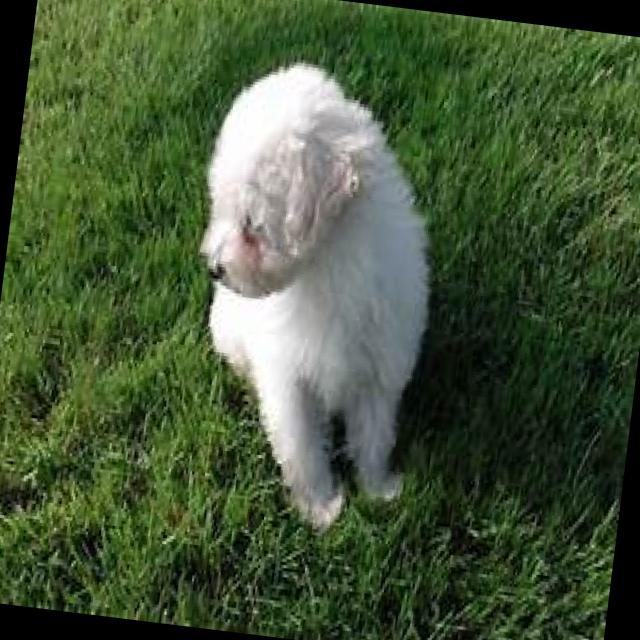animal: (163, 50, 457, 542)
